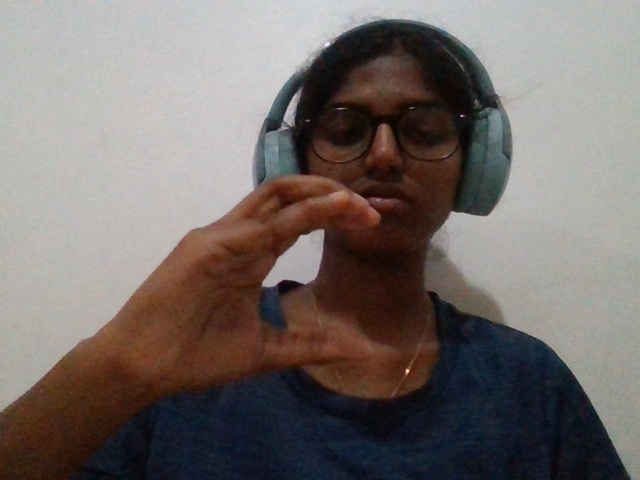C: (41, 151, 425, 442)
